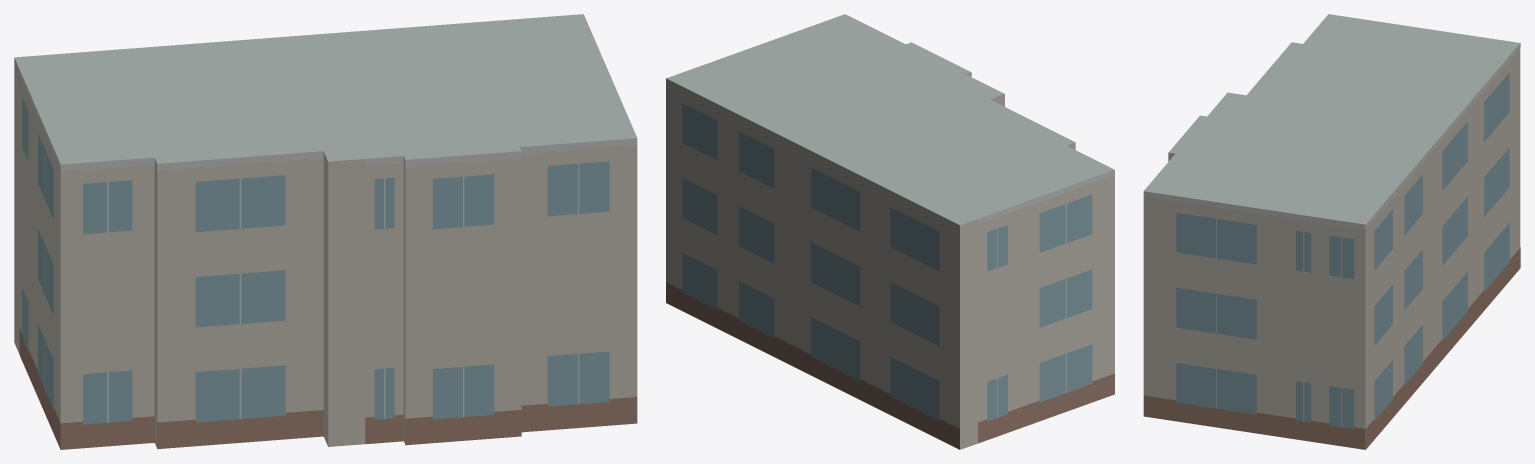
File: survey-upis-32988714.glb
The picture shows the model from 3 angles, left to right: view 1: azimuth 30°, elevation 25°; view 2: azimuth 150°, elevation 25°; view 3: azimuth 270°, elevation 25°; orthographic projection. The views are drawn at different scales.
Parts seen in each view (by area): view 1: survey-upis-32988714.tmp; view 2: survey-upis-32988714.tmp; view 3: survey-upis-32988714.tmp.
Boxes of the visible parts, x1,y1,x2,y2 form: survey-upis-32988714.tmp: (14,14,637,449); survey-upis-32988714.tmp: (666,14,1114,449); survey-upis-32988714.tmp: (1143,14,1520,449).
Bounding box in the file's own units: 20.66 × 10.3 × 15.62.
